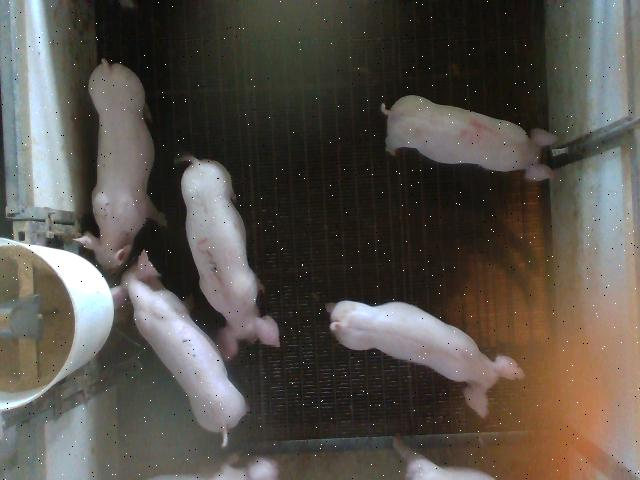pig-3: (180, 155, 279, 359)
pig-4: (381, 95, 556, 181)
